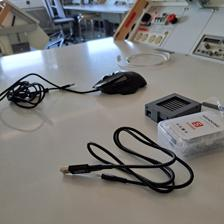mouse: (90, 68, 147, 96)
